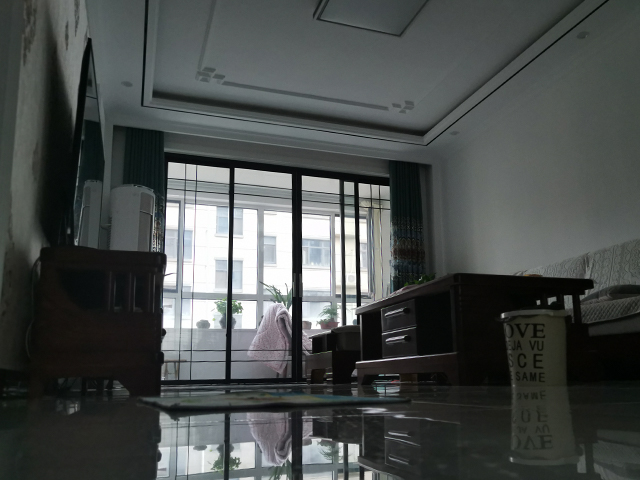cabinet: (25, 244, 169, 401)
carpet: (136, 389, 412, 415)
sofa: (577, 242, 640, 383), (303, 324, 361, 386)
table: (353, 271, 596, 388)
trashcan: (497, 308, 570, 389)
